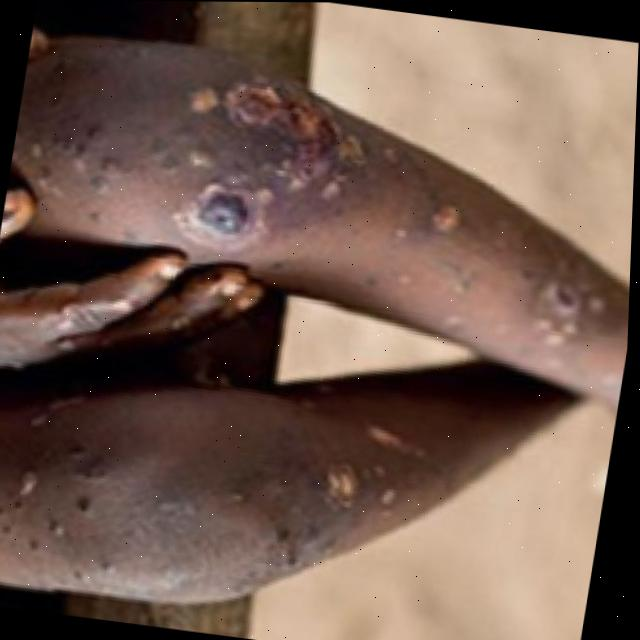Eczema: (0, 353, 505, 638), (41, 84, 532, 287)
